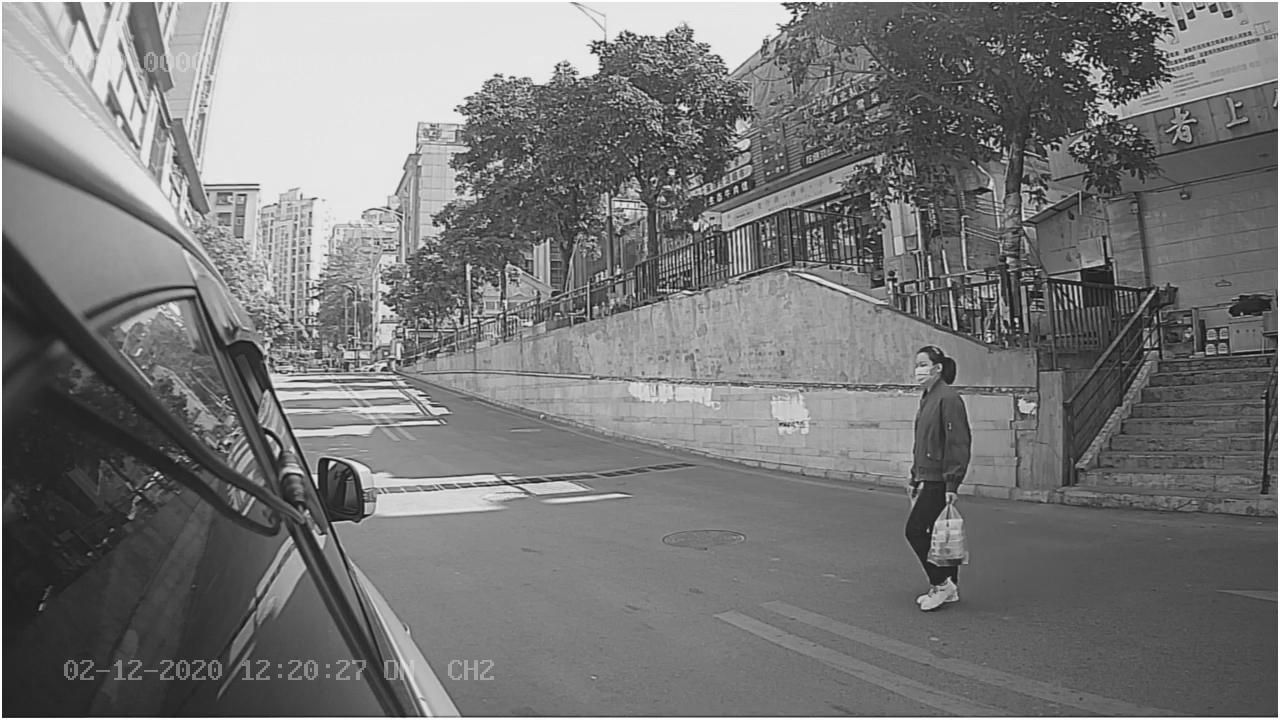person: (891, 339, 984, 614)
